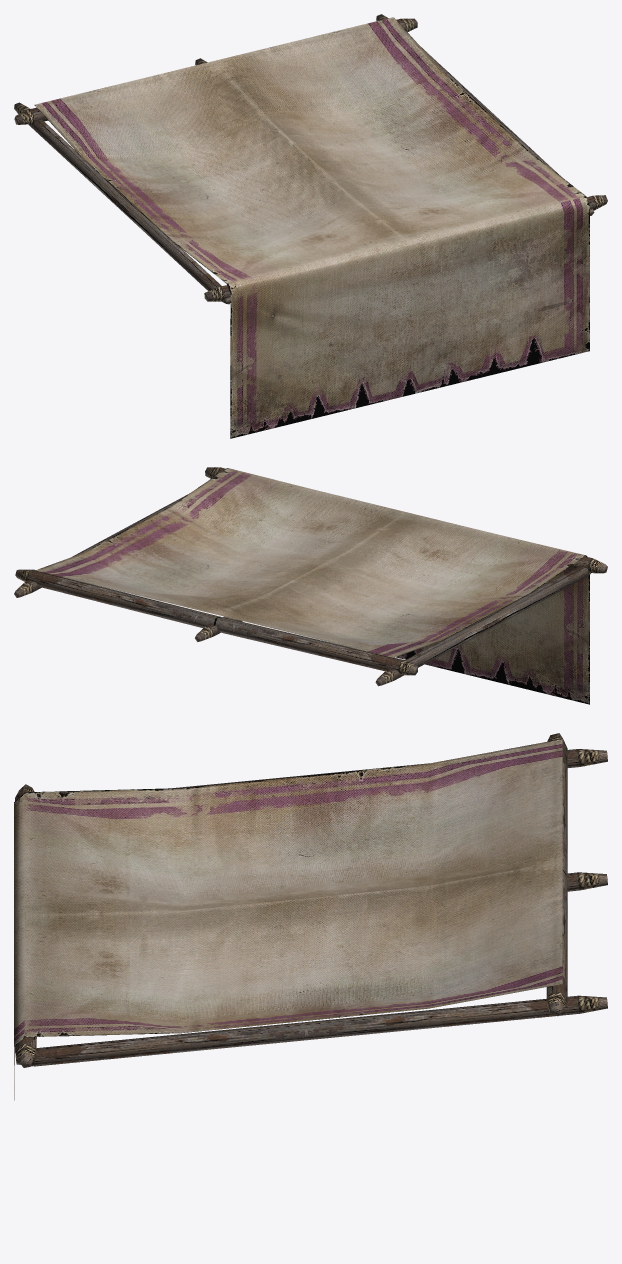
The model's file is SideTent.fbx.
3 views of the same model, one above another, from view 1: azimuth 30°, elevation 25°; view 2: azimuth 150°, elevation 25°; view 3: azimuth 270°, elevation 25° (orthographic). The views are drawn at different scales.
Visible parts, largest first — view 1: LV_Compagna_Object_SideTent03_SM_NWCDOR; view 2: LV_Compagna_Object_SideTent03_SM_NWCDOR; view 3: LV_Compagna_Object_SideTent03_SM_NWCDOR.
Part boxes in pixels (bbox=[...]): LV_Compagna_Object_SideTent03_SM_NWCDOR: bbox=[14, 14, 607, 438]; LV_Compagna_Object_SideTent03_SM_NWCDOR: bbox=[14, 467, 607, 704]; LV_Compagna_Object_SideTent03_SM_NWCDOR: bbox=[14, 733, 607, 1100].
Size of the model in its own units: 1.06 by 0.4834 by 0.9786.
Materials: 1 (1 with a texture image).
